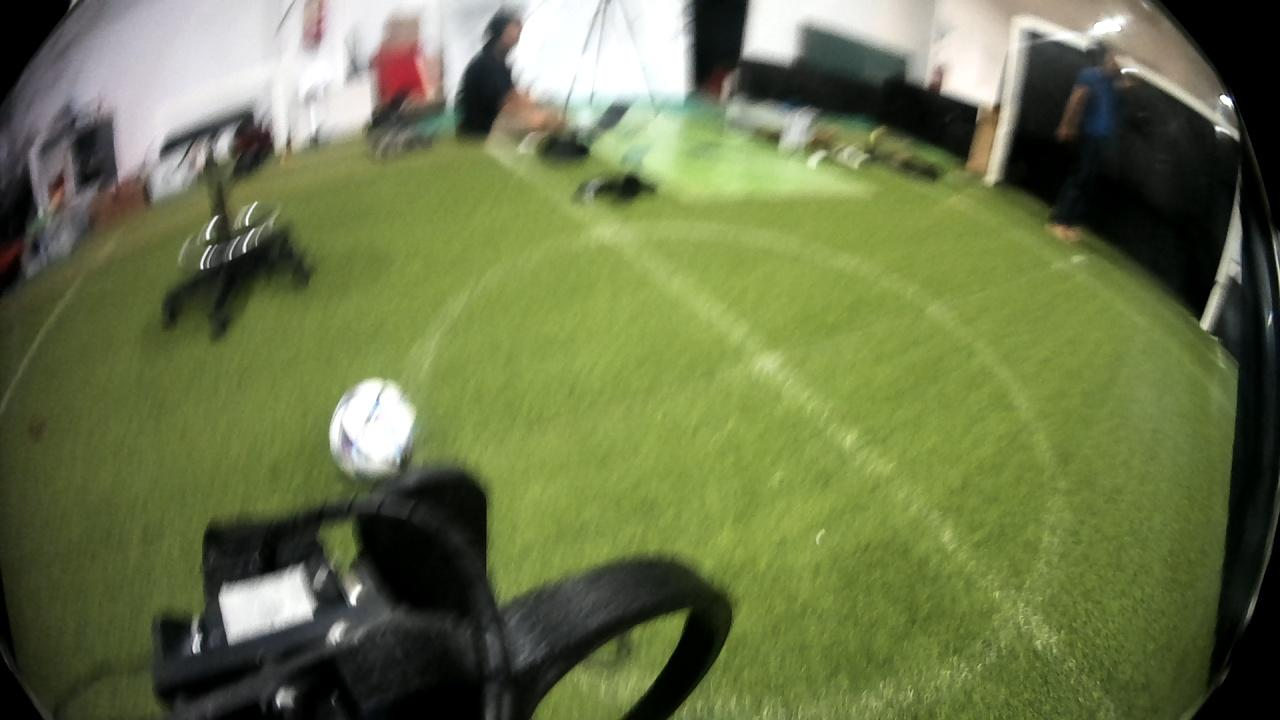ball: (327, 374, 427, 489)
